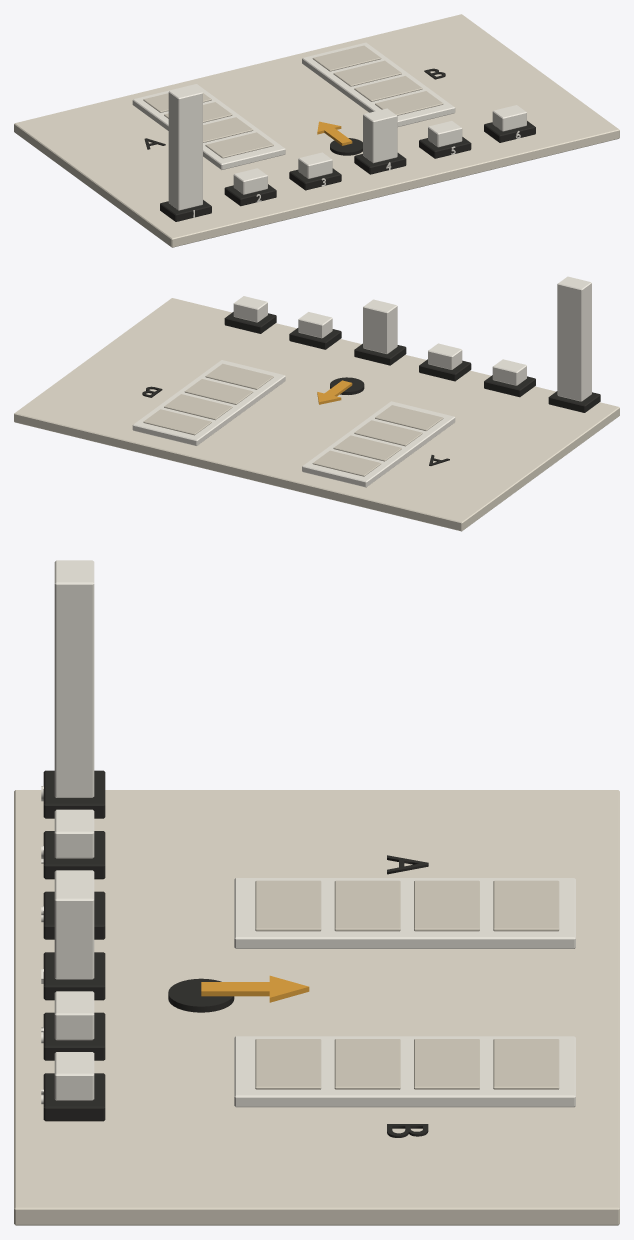
3 renders of one model, top to bottom at view 1: azimuth 30°, elevation 25°; view 2: azimuth 150°, elevation 25°; view 3: azimuth 270°, elevation 25°, orthographic. The views are drawn at different scales.
Parts seen in each view (by area): view 1: Plinth, Work_Q1, Lane_B, Lane_A, Work_Q4, Slot_B0, Slot_B1, Slot_B2, Slot_A3, Slot_B3, Slot_A2, Work_Q3 (+13 smaller); view 2: Plinth, Work_Q1, Lane_A, Lane_B, Work_Q4, Slot_A1, Slot_B1, Slot_A2, Slot_B0, Slot_B2, Slot_A0, Slot_B3 (+13 smaller); view 3: Plinth, Lane_B, Lane_A, Work_Q1, Work_Q4, Slot_A3, Slot_A0, Slot_A2, Slot_A1, Slot_B0, Slot_B2, Slot_B3 (+12 smaller).
Boxes of the visible parts, box(x1,y1,x2,y2) form: Plinth: box(14, 14, 619, 247); Work_Q1: box(168, 85, 202, 210); Lane_B: box(302, 42, 455, 126); Lane_A: box(132, 84, 285, 169); Work_Q4: box(363, 108, 397, 163); Slot_B0: box(312, 45, 381, 71); Slot_B1: box(333, 60, 401, 86); Slot_B2: box(354, 76, 422, 101); Slot_A3: box(205, 132, 273, 158); Slot_B3: box(375, 91, 443, 115); Slot_A2: box(203, 117, 253, 142); Work_Q3: box(298, 152, 332, 178); Plinth: box(14, 298, 619, 531); Work_Q1: box(557, 276, 591, 401); Lane_A: box(302, 401, 455, 487); Lane_B: box(132, 360, 285, 445); Work_Q4: box(363, 299, 397, 354); Slot_A1: box(333, 435, 401, 461); Slot_B1: box(164, 394, 232, 420); Slot_A2: box(354, 420, 422, 446); Slot_B0: box(143, 409, 211, 435); Slot_B2: box(184, 379, 253, 404); Slot_A0: box(312, 450, 381, 476); Slot_B3: box(205, 363, 273, 389); Plinth: box(14, 790, 619, 1225); Lane_B: box(234, 1036, 575, 1107); Lane_A: box(234, 878, 575, 948); Work_Q1: box(54, 560, 94, 797); Work_Q4: box(54, 877, 94, 979); Slot_A3: box(255, 880, 321, 931); Slot_A0: box(493, 880, 559, 931); Slot_A2: box(334, 880, 400, 931); Slot_A1: box(414, 880, 479, 931); Slot_B0: box(493, 1039, 559, 1089); Slot_B2: box(334, 1039, 400, 1089); Slot_B3: box(255, 1039, 321, 1089).
Bounding box in the file's own units: 9 × 2.64 × 5.5.
